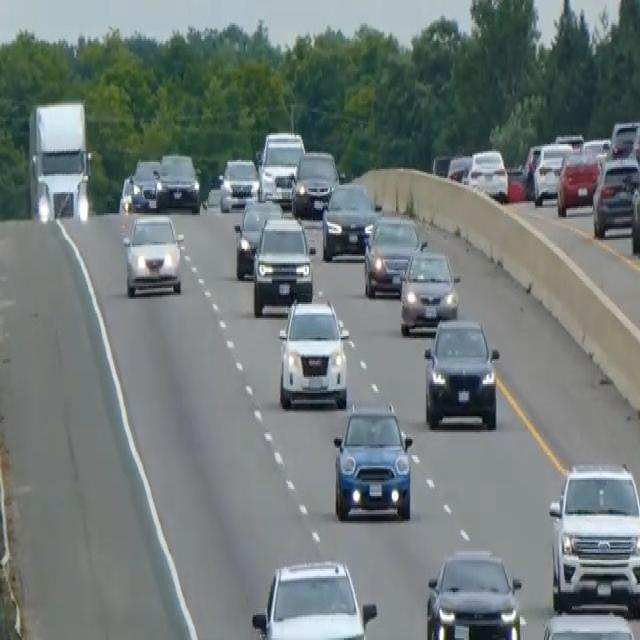car: (251, 556, 377, 638), (332, 402, 413, 521), (424, 548, 525, 638), (423, 315, 500, 430), (277, 293, 349, 409), (251, 215, 313, 315), (398, 247, 460, 334), (363, 211, 425, 297), (121, 211, 183, 297), (321, 180, 381, 260), (233, 196, 283, 279), (591, 155, 639, 238), (291, 148, 339, 218), (258, 133, 305, 203), (556, 147, 601, 217), (154, 151, 200, 212), (540, 610, 637, 638), (532, 140, 572, 204), (219, 154, 260, 212), (466, 147, 509, 201), (131, 156, 160, 208), (118, 172, 148, 214), (521, 142, 542, 198), (610, 118, 639, 156), (446, 153, 471, 183), (582, 137, 610, 162), (554, 130, 584, 153), (432, 151, 452, 178)
jeep: (547, 459, 639, 615)
lorry: (26, 96, 93, 226)
